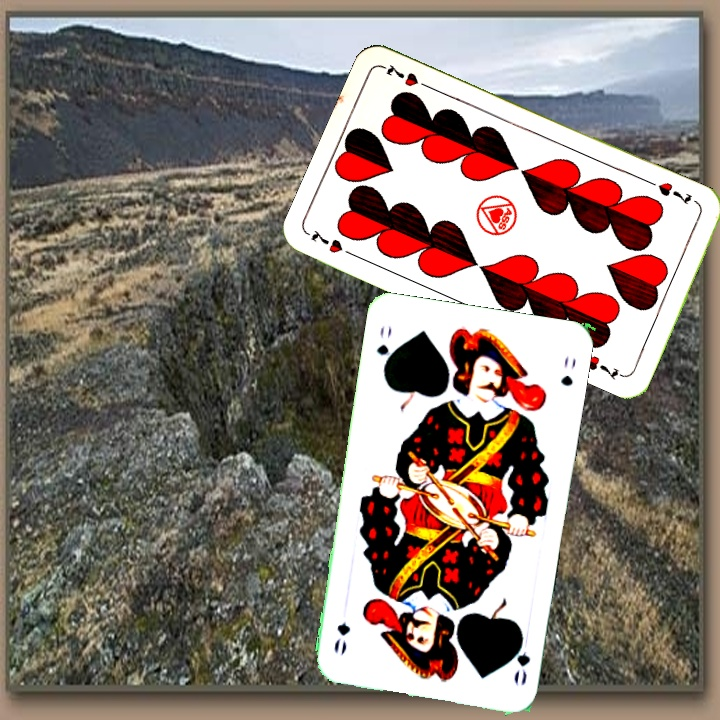GO: (508, 631, 533, 688), (372, 321, 395, 377)
H7: (307, 225, 360, 261), (654, 178, 694, 208)
